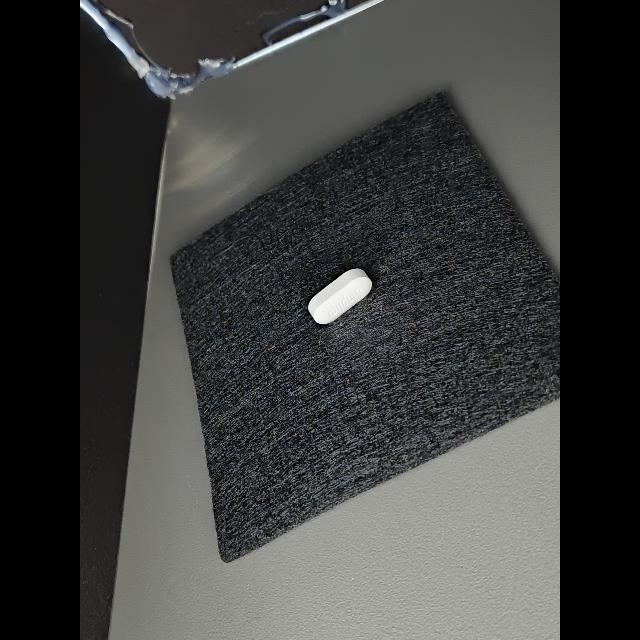Intact Pill: (308, 268, 372, 324)
